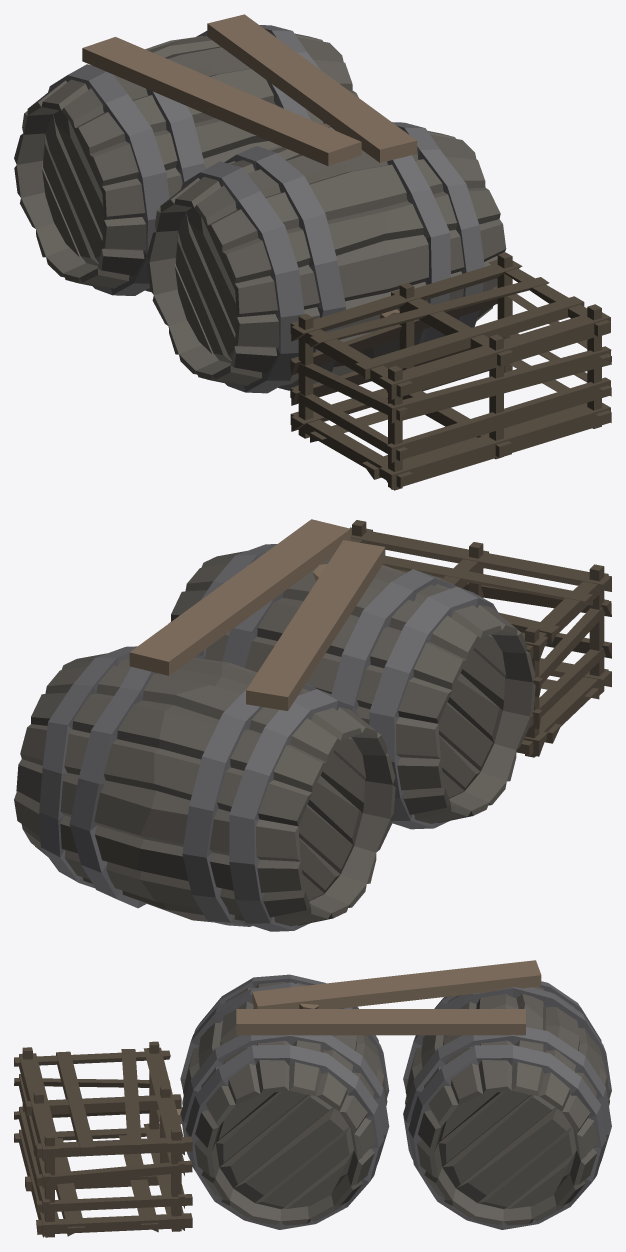
Rendered from Stack3.fbx.
3 views of the same model, one above another, from view 1: azimuth 30°, elevation 25°; view 2: azimuth 150°, elevation 25°; view 3: azimuth 270°, elevation 25° (orthographic). The views are drawn at different scales.
Visible parts, largest first — view 1: SM_Prop_Stack_11; view 2: SM_Prop_Stack_11; view 3: SM_Prop_Stack_11.
Part boxes in pixels (<box>): SM_Prop_Stack_11: <box>14,14,611,490</box>; SM_Prop_Stack_11: <box>14,519,611,931</box>; SM_Prop_Stack_11: <box>14,960,611,1237</box>.
Bounding box in the file's own units: 109 × 89.35 × 245.
Materials: 1 (1 with a texture image).
